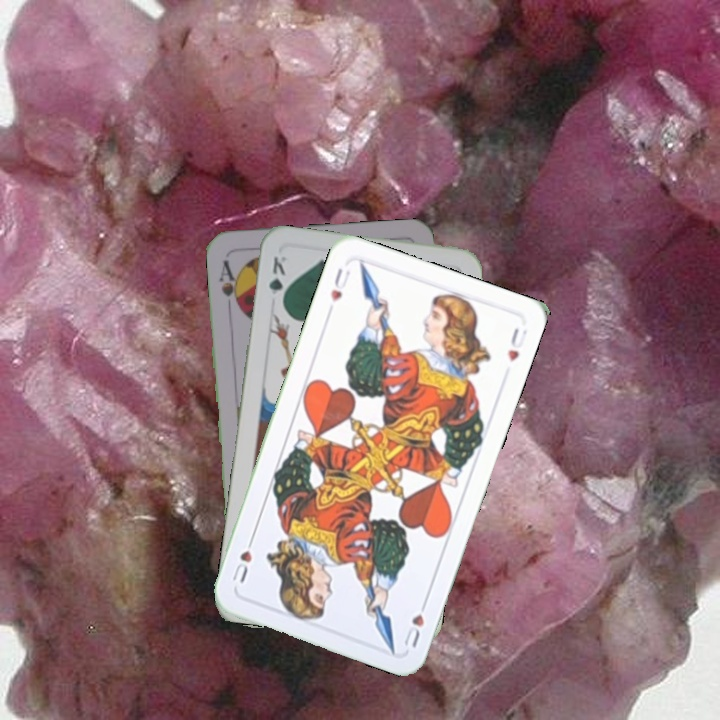GK: (265, 252, 289, 309)
HU: (400, 594, 431, 650), (326, 264, 354, 305)
SA: (215, 256, 243, 313)
